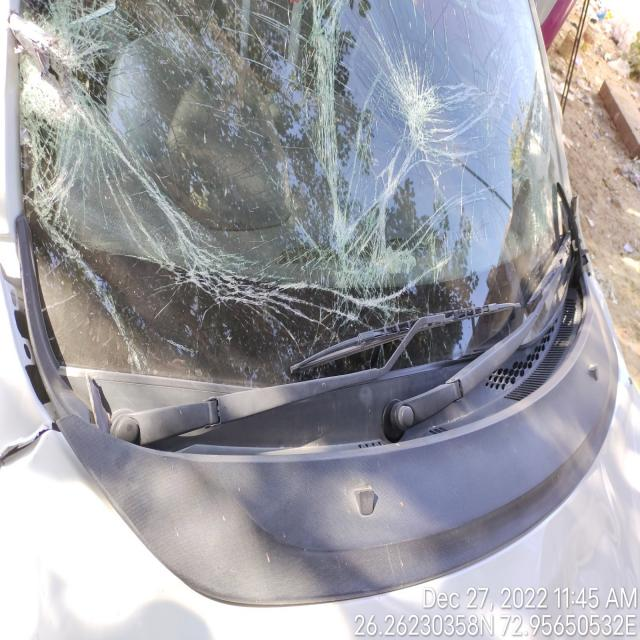damage: (20, 0, 562, 365), (595, 462, 640, 636), (0, 422, 50, 463)
